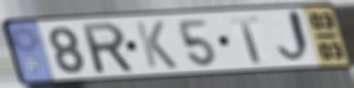5: (175, 17, 221, 68)
8: (48, 25, 87, 75)
J: (275, 8, 316, 67)
K: (133, 20, 180, 70)
R: (79, 20, 138, 76)
T: (228, 15, 264, 65)
